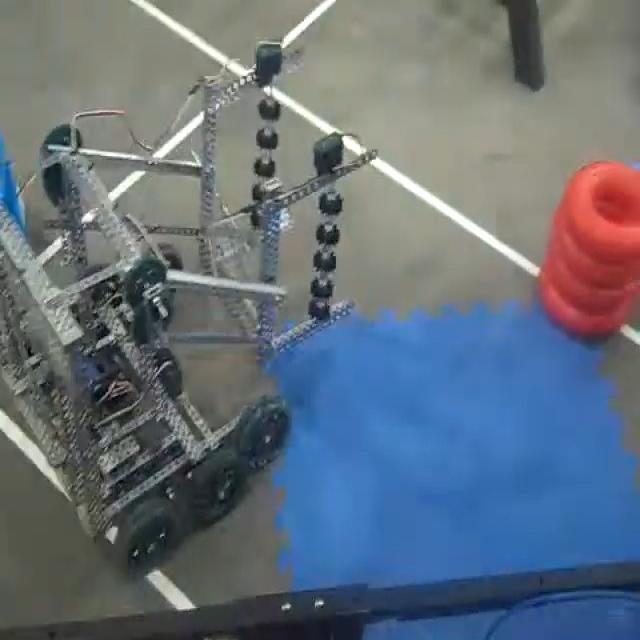Red-Ring: (555, 162, 640, 263), (538, 273, 633, 342), (547, 220, 640, 288), (542, 255, 631, 313)
